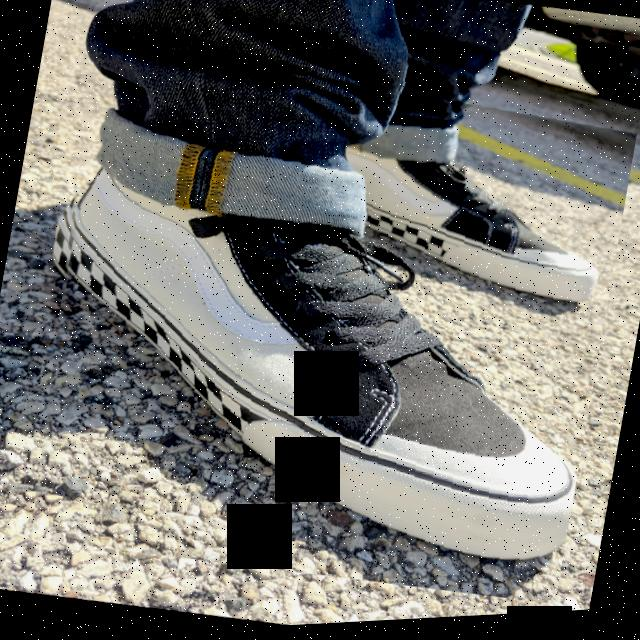shoe: (7, 15, 640, 632), (358, 7, 640, 327)
